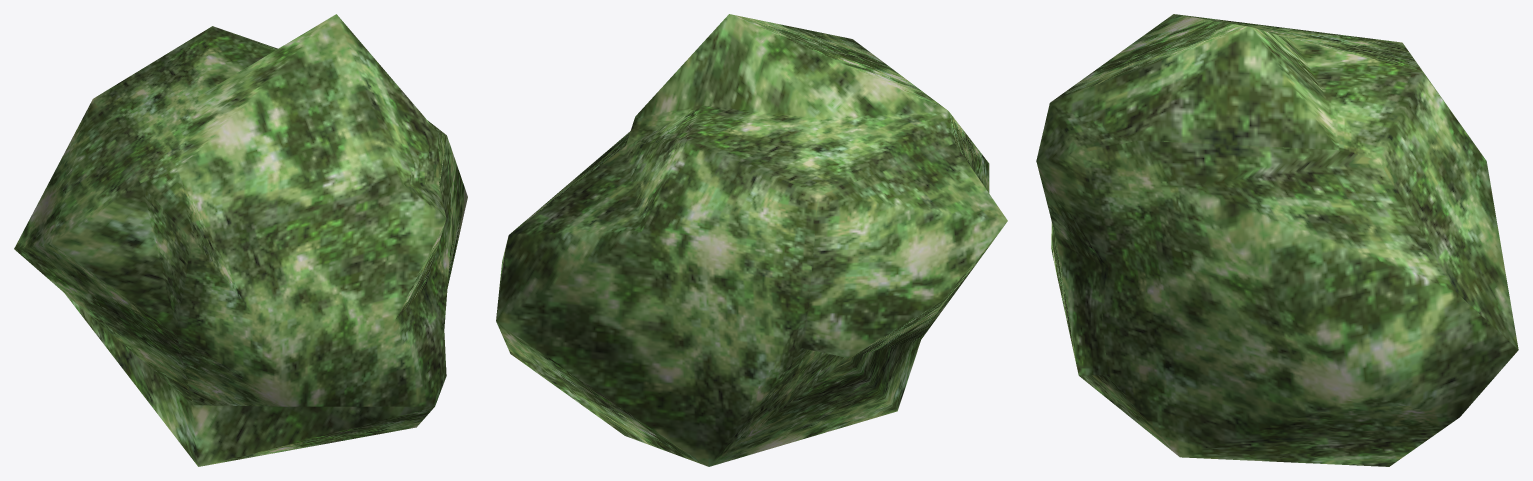
Rendered from asteroid_acid_medium_s02_l3.fbx.
3 views of the same model, side by side, from view 1: azimuth 30°, elevation 25°; view 2: azimuth 150°, elevation 25°; view 3: azimuth 270°, elevation 25° (orthographic). The views are drawn at different scales.
Visible parts, largest first — view 1: mesh_node; view 2: mesh_node; view 3: mesh_node.
Boxes of the visible parts, <box> form: mesh_node: <box>14,14,467,466</box>; mesh_node: <box>496,14,1007,466</box>; mesh_node: <box>1036,14,1518,466</box>.
Size of the model in its own units: 76.55 by 62.89 by 65.67.
Materials: 1 (1 with a texture image).
